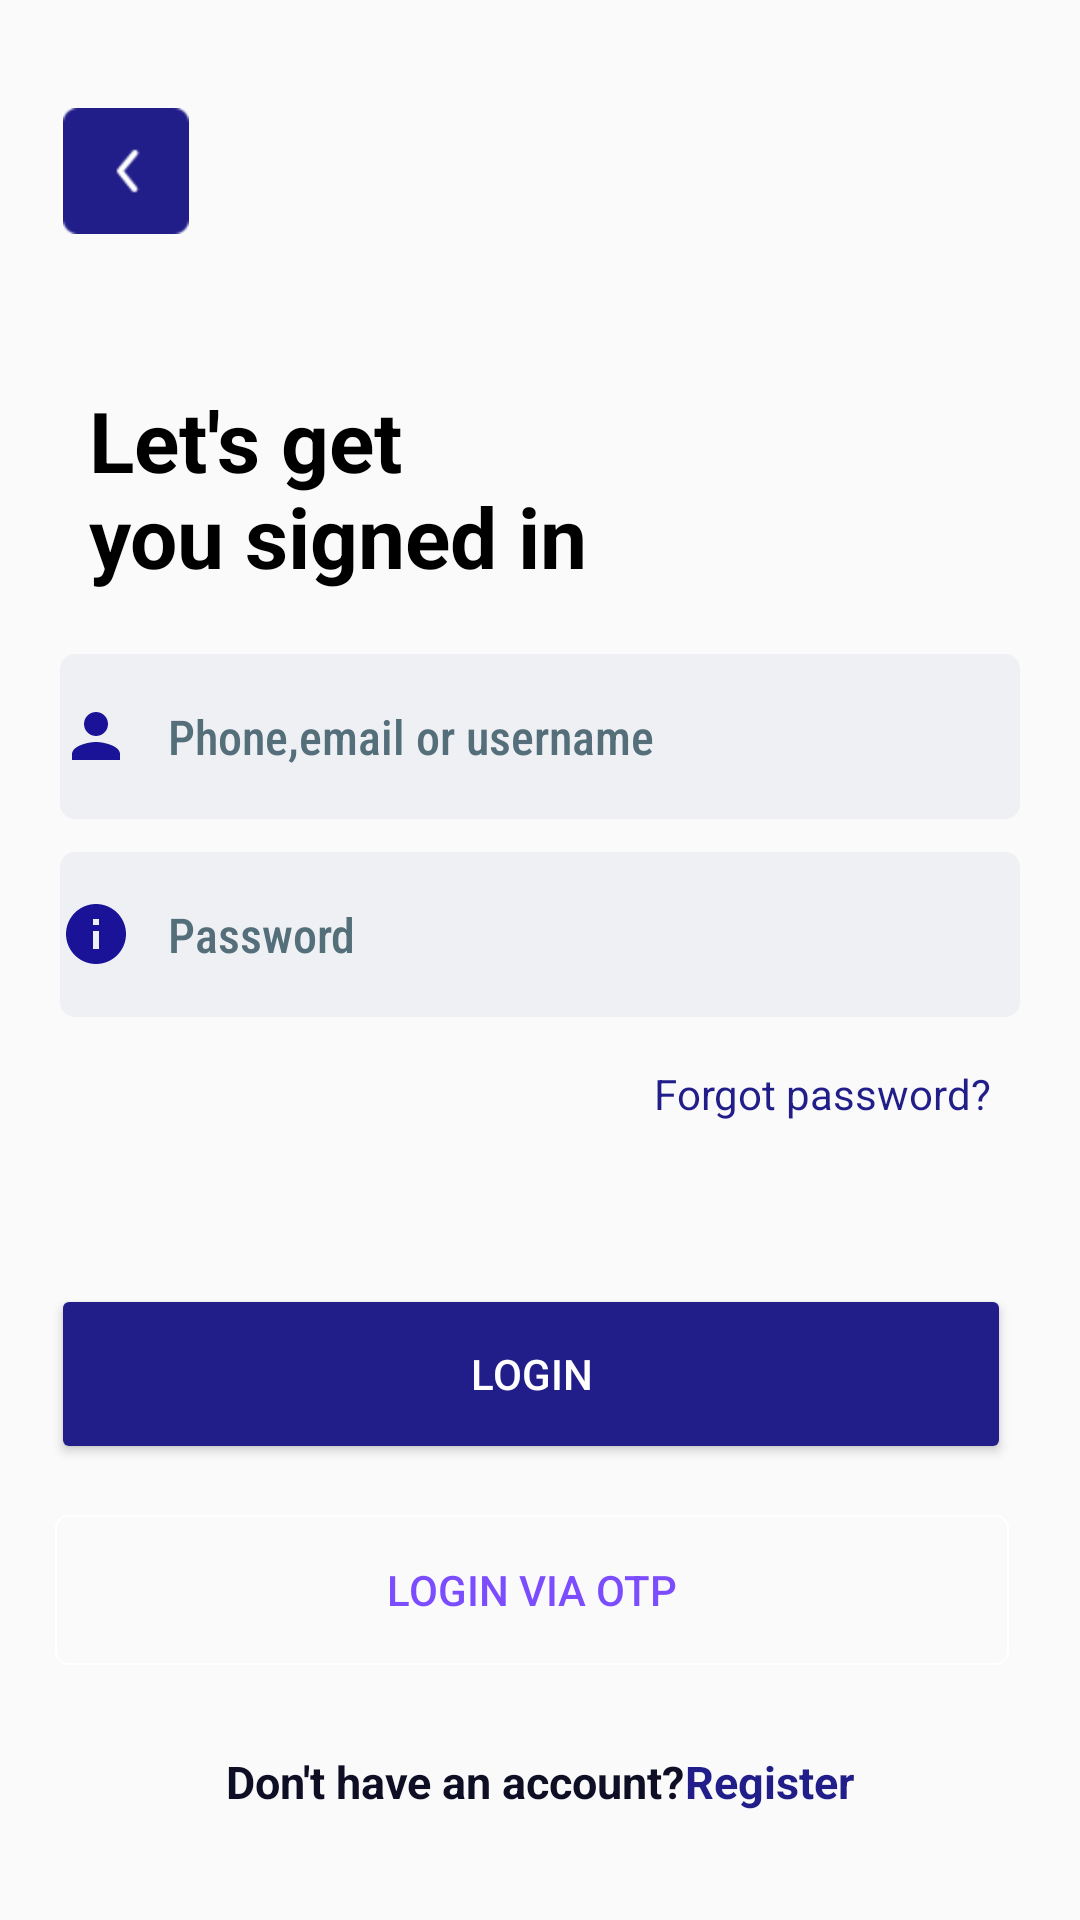

Icons on this 1080 × 1920 Android screen, each with its box as (x1, y1, x2, y2):
backbutton: (63, 108, 189, 234)
